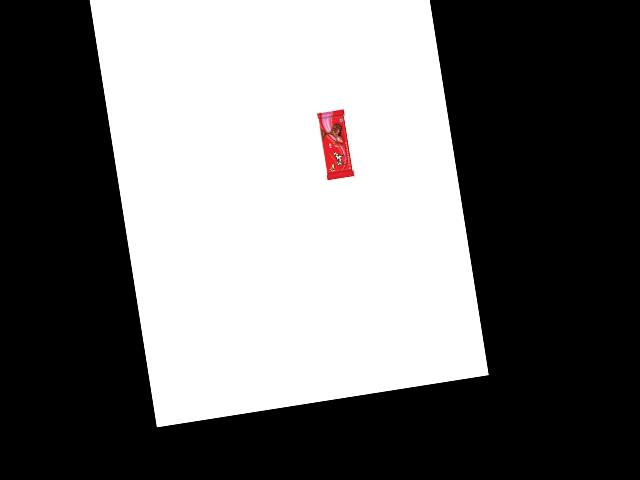chocolate: (317, 108, 359, 185)
